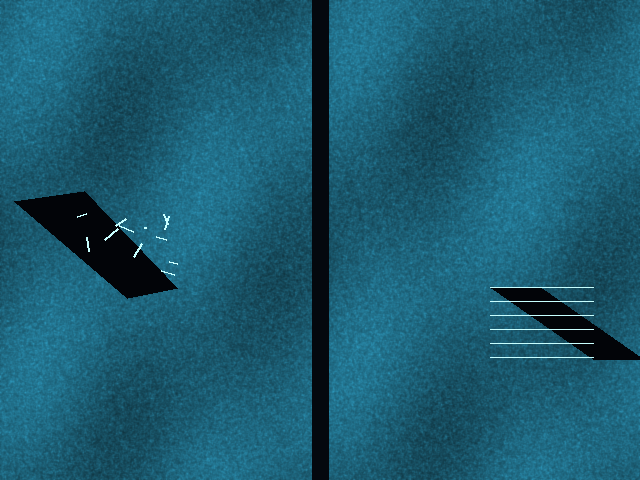Fishing Net: (490, 287, 593, 359)
Ghost Net: (74, 191, 187, 288)
